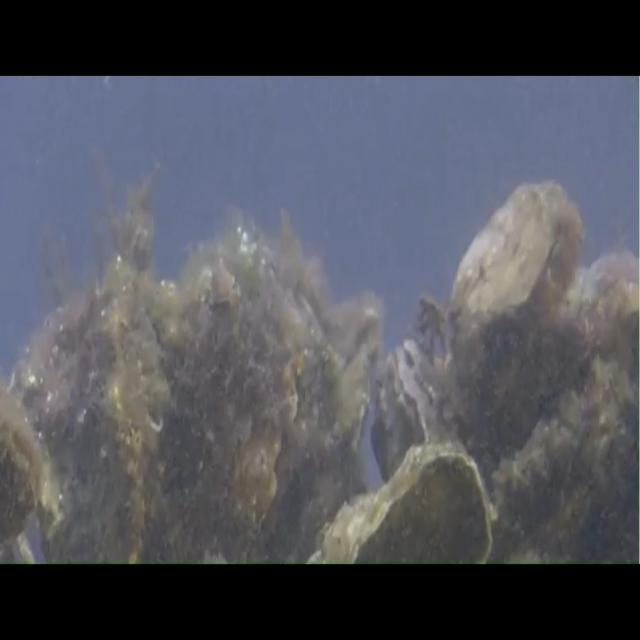Oyster- Indeterminate: (163, 238, 300, 566), (22, 277, 159, 580), (451, 182, 582, 321), (0, 392, 42, 536)
Oyster-Closed: (371, 300, 459, 480)
Oyster-Open: (334, 444, 491, 562)
